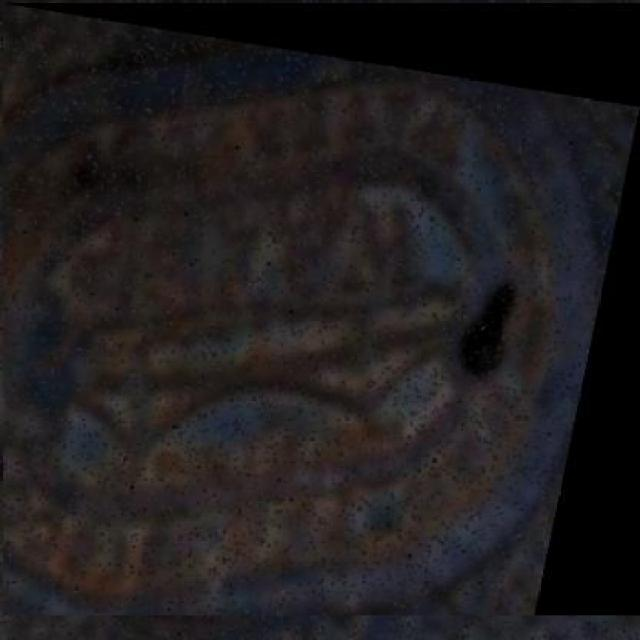Manhole: (3, 4, 640, 616)
